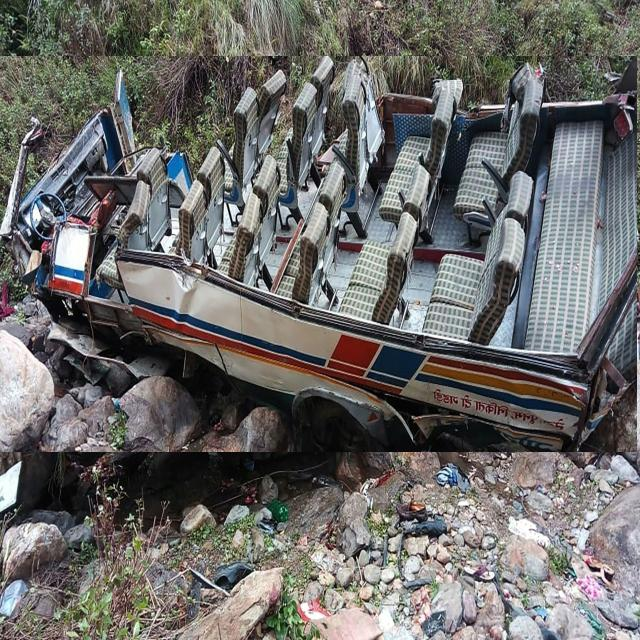accident: (0, 57, 637, 452)
